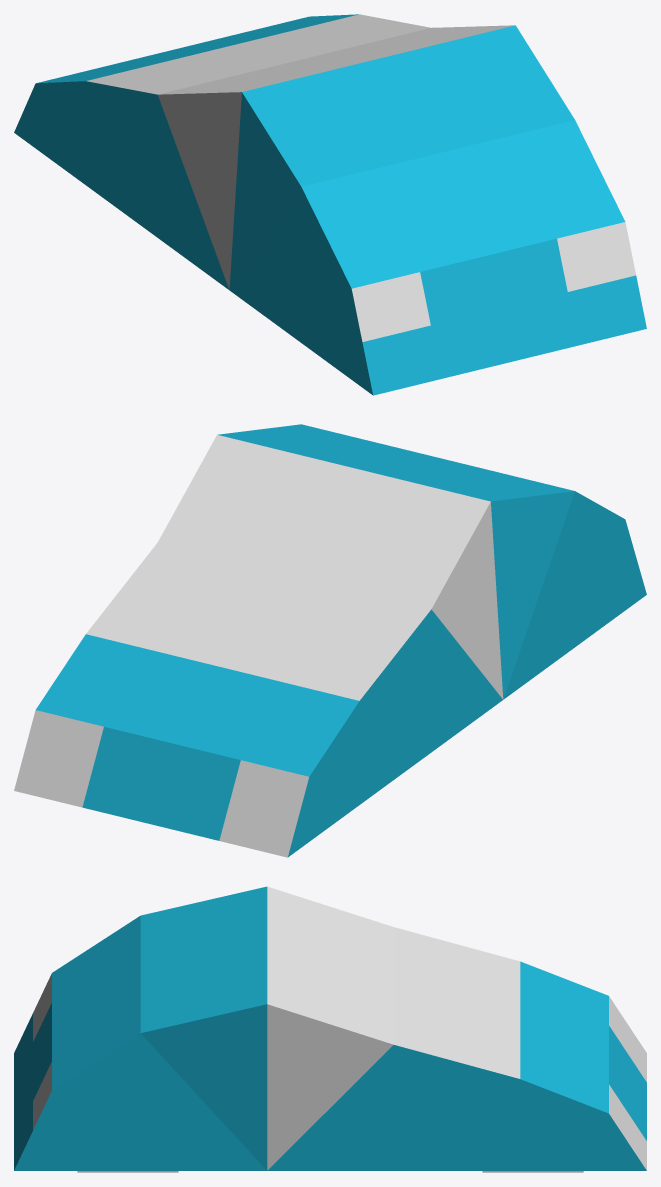
File: fliegendesAuto.fbx
3 views of the same model, one above another, from view 1: azimuth 30°, elevation 25°; view 2: azimuth 150°, elevation 25°; view 3: azimuth 270°, elevation 25° (orthographic). The views are drawn at different scales.
Visible parts, largest first — view 1: mesh_1837334045; view 2: mesh_1837334045; view 3: mesh_1837334045.
Part boxes in pixels (left/top/right/bottom): mesh_1837334045: left=14, top=14, right=646, bottom=395; mesh_1837334045: left=14, top=424, right=646, bottom=857; mesh_1837334045: left=14, top=886, right=646, bottom=1170.
Bounding box in the file's own units: 23 × 17 × 50.
